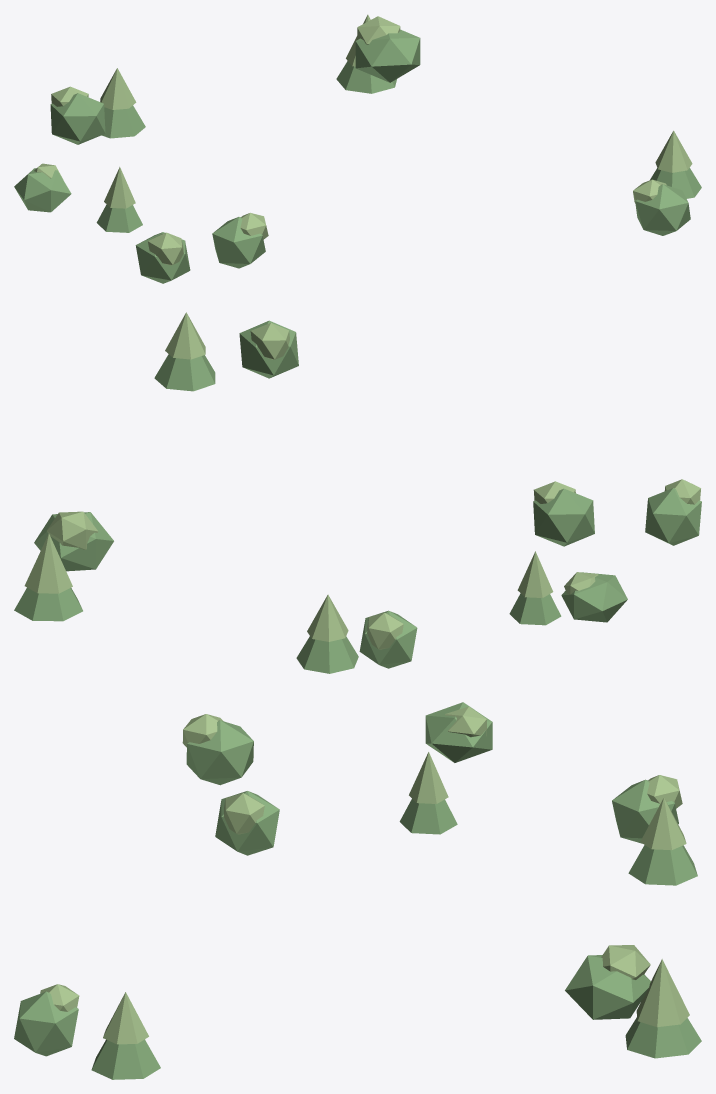
The model's file is path_narrow_pass_wind_canopies.fbx.
3 renders of one model, top to bottom at view 1: azimuth 30°, elevation 25°; view 2: azimuth 150°, elevation 25°; view 3: azimuth 270°, elevation 25°, orthographic. The views are drawn at different scales.
Parts seen in each view (by area): view 1: chunk_path_narrow_pass__tree_canopy_14, chunk_path_narrow_pass__tree_canopy_08, chunk_path_narrow_pass__tree_canopy_18, chunk_path_narrow_pass__tree_canopy_09, chunk_path_narrow_pass__tree_canopy_01, chunk_path_narrow_pass__tree_canopy_04, chunk_path_narrow_pass__tree_canopy_11, chunk_path_narrow_pass__tree_canopy_16, chunk_path_narrow_pass__tree_canopy_05, chunk_path_narrow_pass__tree_canopy_20, chunk_path_narrow_pass__tree_canopy_12, chunk_path_narrow_pass__tree_canopy_03 (+5 smaller); view 2: chunk_path_narrow_pass__tree_canopy_09, chunk_path_narrow_pass__tree_canopy_04, chunk_path_narrow_pass__tree_canopy_01, chunk_path_narrow_pass__tree_canopy_14, chunk_path_narrow_pass__tree_canopy_11, chunk_path_narrow_pass__tree_canopy_19, chunk_path_narrow_pass__tree_canopy_16, chunk_path_narrow_pass__tree_canopy_18, chunk_path_narrow_pass__tree_canopy_15, chunk_path_narrow_pass__tree_canopy_08, chunk_path_narrow_pass__tree_canopy_13, chunk_path_narrow_pass__tree_canopy_05 (+5 smaller); view 3: chunk_path_narrow_pass__tree_canopy_14, chunk_path_narrow_pass__tree_canopy_04, chunk_path_narrow_pass__tree_canopy_18, chunk_path_narrow_pass__tree_canopy_01, chunk_path_narrow_pass__tree_canopy_16, chunk_path_narrow_pass__tree_canopy_11, chunk_path_narrow_pass__tree_canopy_15, chunk_path_narrow_pass__tree_canopy_19, chunk_path_narrow_pass__tree_canopy_08, chunk_path_narrow_pass__tree_canopy_09, chunk_path_narrow_pass__tree_canopy_05, chunk_path_narrow_pass__tree_canopy_12 (+8 smaller).
Boxes of the visible parts, box(x1,y1,x2,y2) form: chunk_path_narrow_pass__tree_canopy_14: box(355, 29, 420, 82); chunk_path_narrow_pass__tree_canopy_08: box(50, 93, 105, 144); chunk_path_narrow_pass__tree_canopy_18: box(635, 184, 690, 235); chunk_path_narrow_pass__tree_canopy_09: box(212, 217, 265, 268); chunk_path_narrow_pass__tree_canopy_01: box(14, 168, 71, 212); chunk_path_narrow_pass__tree_canopy_04: box(135, 232, 190, 283); chunk_path_narrow_pass__tree_canopy_11: box(102, 105, 145, 138); chunk_path_narrow_pass__tree_canopy_16: box(336, 61, 396, 93); chunk_path_narrow_pass__tree_canopy_05: box(96, 204, 142, 232); chunk_path_narrow_pass__tree_canopy_20: box(655, 130, 692, 172); chunk_path_narrow_pass__tree_canopy_12: box(100, 68, 136, 109); chunk_path_narrow_pass__tree_canopy_03: box(147, 232, 183, 265); chunk_path_narrow_pass__tree_canopy_09: box(533, 488, 594, 546); chunk_path_narrow_pass__tree_canopy_04: box(645, 488, 701, 545); chunk_path_narrow_pass__tree_canopy_01: box(561, 572, 627, 622); chunk_path_narrow_pass__tree_canopy_14: box(34, 512, 113, 571); chunk_path_narrow_pass__tree_canopy_11: box(296, 636, 358, 673); chunk_path_narrow_pass__tree_canopy_19: box(154, 354, 215, 391); chunk_path_narrow_pass__tree_canopy_16: box(14, 587, 82, 621); chunk_path_narrow_pass__tree_canopy_18: box(239, 320, 298, 378); chunk_path_narrow_pass__tree_canopy_15: box(24, 533, 72, 593); chunk_path_narrow_pass__tree_canopy_08: box(359, 610, 417, 668); chunk_path_narrow_pass__tree_canopy_13: box(47, 511, 98, 549); chunk_path_narrow_pass__tree_canopy_05: box(509, 593, 561, 625); chunk_path_narrow_pass__tree_canopy_14: box(565, 955, 650, 1019); chunk_path_narrow_pass__tree_canopy_04: box(186, 720, 253, 785); chunk_path_narrow_pass__tree_canopy_18: box(14, 991, 78, 1056); chunk_path_narrow_pass__tree_canopy_01: box(425, 702, 492, 762); chunk_path_narrow_pass__tree_canopy_16: box(625, 1017, 701, 1058); chunk_path_narrow_pass__tree_canopy_11: box(628, 845, 697, 885); chunk_path_narrow_pass__tree_canopy_15: box(636, 959, 689, 1027); chunk_path_narrow_pass__tree_canopy_19: box(91, 1039, 160, 1079); chunk_path_narrow_pass__tree_canopy_08: box(612, 779, 678, 843); chunk_path_narrow_pass__tree_canopy_09: box(215, 791, 279, 855); chunk_path_narrow_pass__tree_canopy_05: box(399, 799, 457, 834); chunk_path_narrow_pass__tree_canopy_12: box(640, 798, 686, 849).
Bounding box in the file's own units: 198 × 29.39 × 173.
